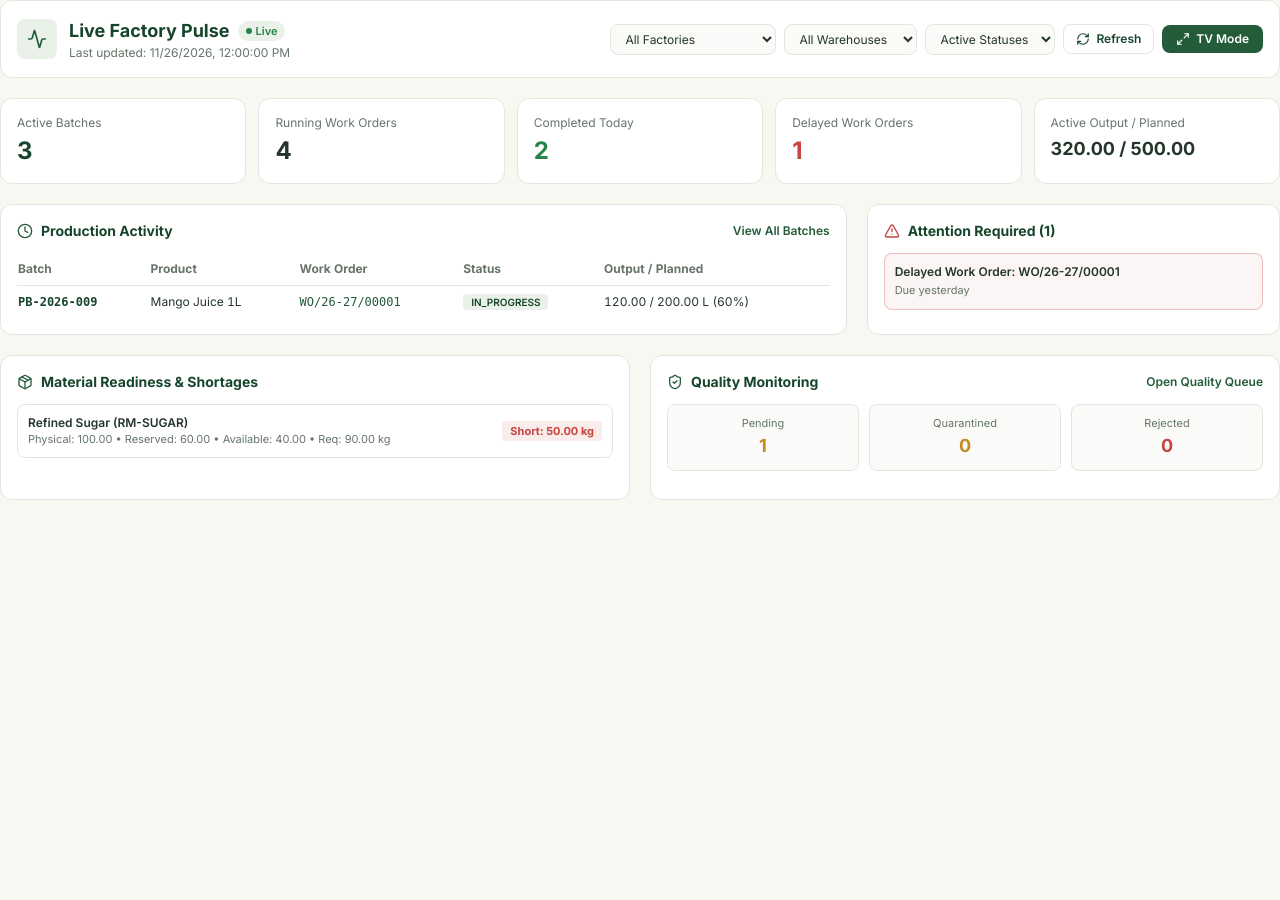
Test: Sprint 2 & 3: Live Factory Pulse & TV Mode › renders Factory Pulse metrics, material shortages, and enters/exits TV Mode
Expected: the link "PB-2026-009" is shown, [18,295,98,309]
Expected: the text "Refined Sugar (RM-SUGAR)" is shown, [28,415,188,430]
# Enter TV Mode
Click the button "TV Mode" at {"x": 1213, "y": 39}, box [1162,25,1263,53]
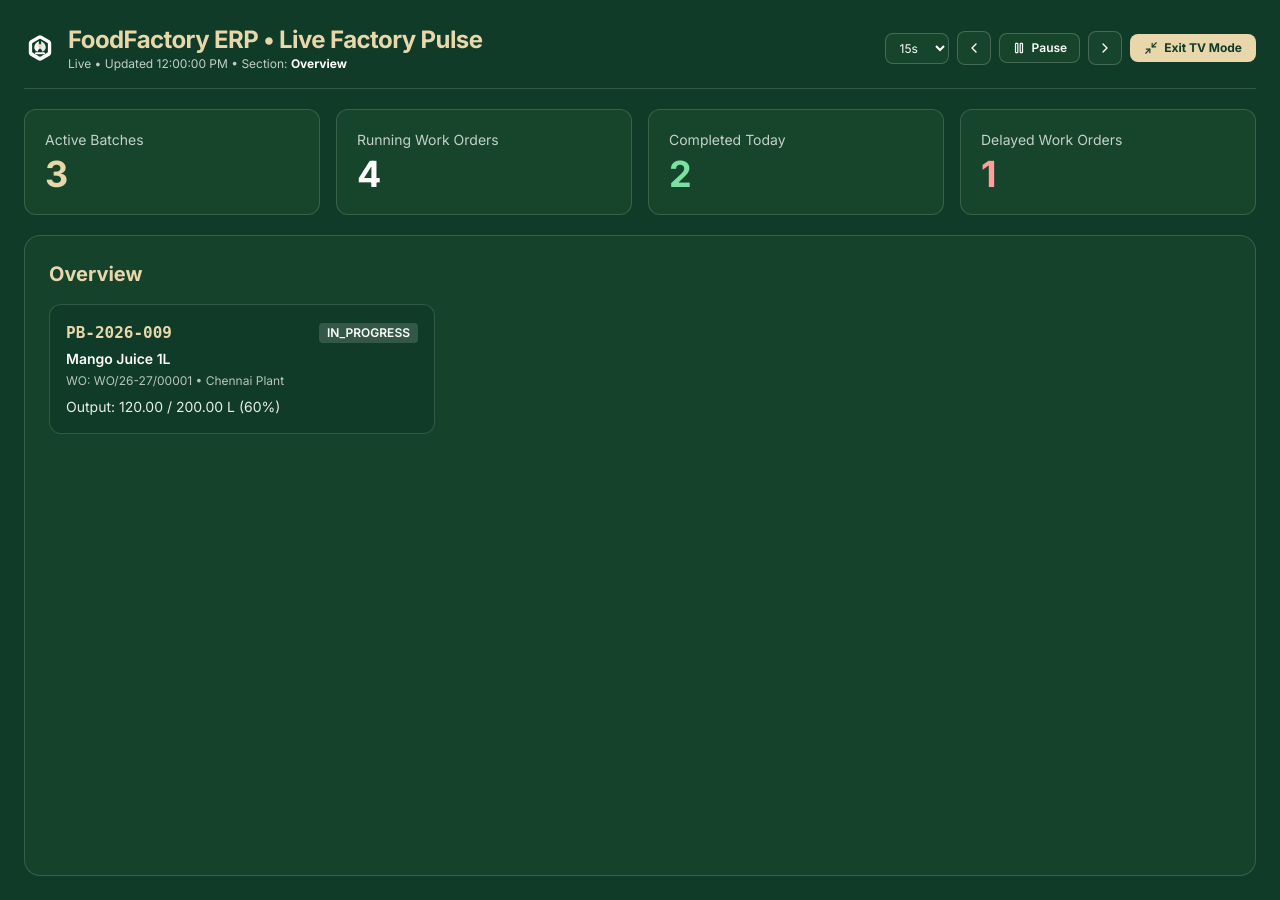
Expected: the element with test id "tv-mode-container" is shown
# Pause and resume rotation
Click the button with aria-label "Pause rotation" at {"x": 1039, "y": 48}, box [999,33,1080,63]
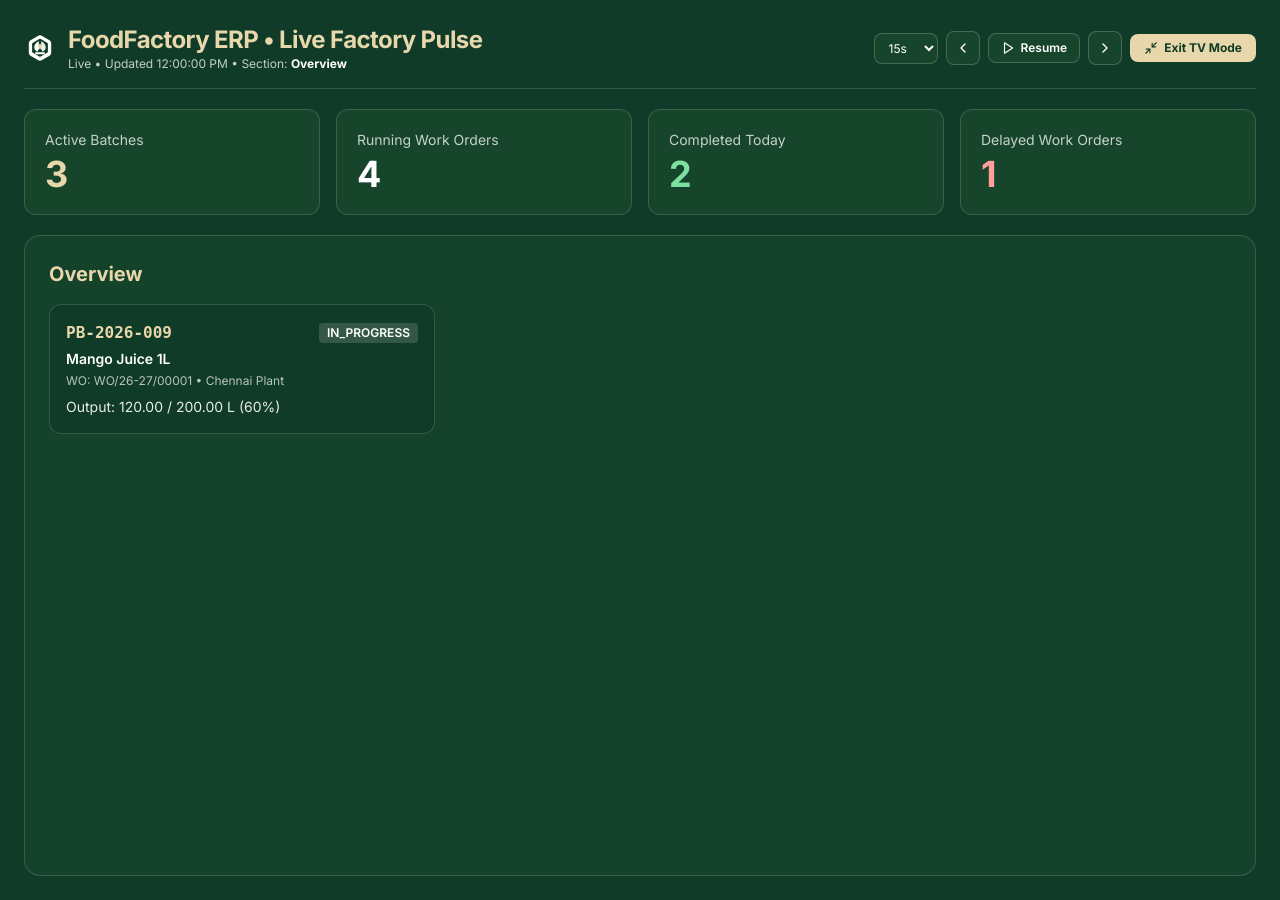
Expected: the button with aria-label "Resume rotation" is shown, [988,33,1080,63]
# Exit TV Mode via Escape
Press Escape
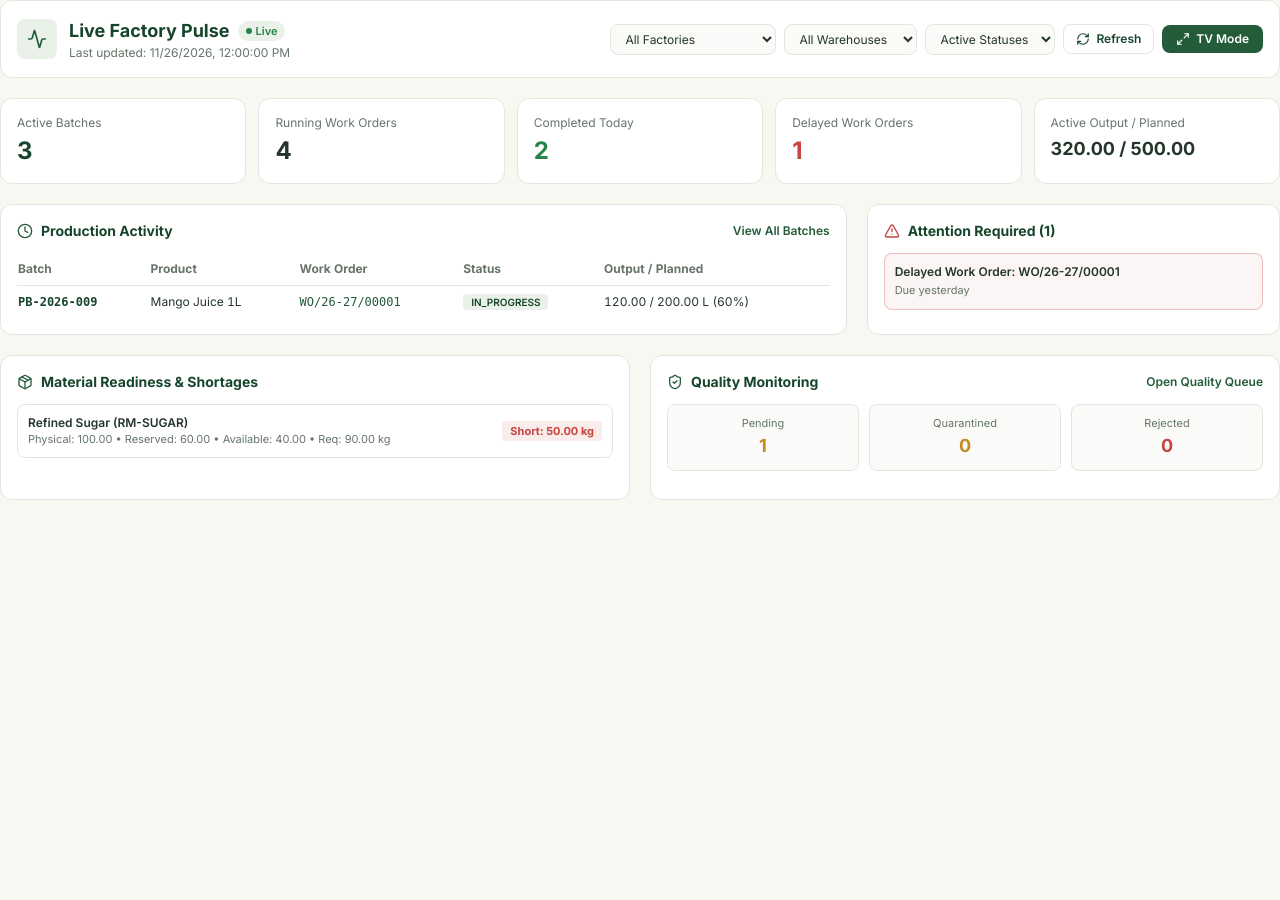
Expected: the element with test id "tv-mode-container" is gone
